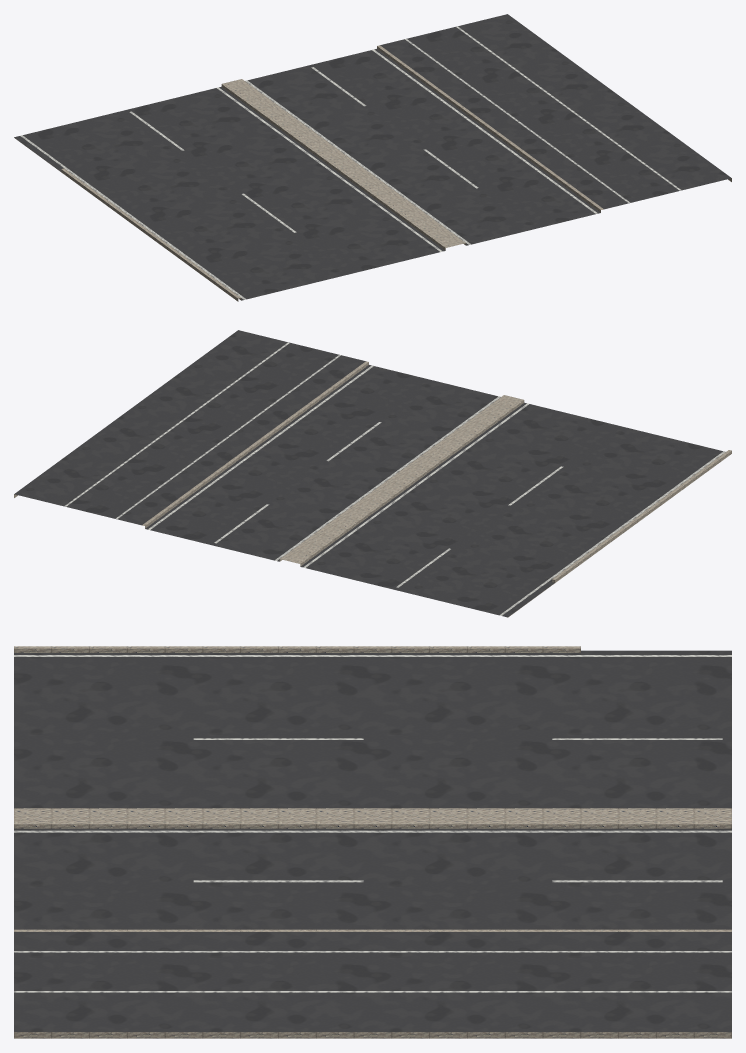
Rendered from SM_Viale_Italia_Strada_v2_Varco_LOD1.fbx.
3 renders of one model, top to bottom at view 1: azimuth 30°, elevation 25°; view 2: azimuth 150°, elevation 25°; view 3: azimuth 270°, elevation 25°, orthographic. The views are drawn at different scales.
Visible parts, largest first — view 1: SM_Viale_Italia_Strada_v2_Varco_LOD1; view 2: SM_Viale_Italia_Strada_v2_Varco_LOD1; view 3: SM_Viale_Italia_Strada_v2_Varco_LOD1.
Part boxes in pixels (x1=…): SM_Viale_Italia_Strada_v2_Varco_LOD1: x1=14, y1=14, x2=731, y2=301; SM_Viale_Italia_Strada_v2_Varco_LOD1: x1=14, y1=330, x2=731, y2=617; SM_Viale_Italia_Strada_v2_Varco_LOD1: x1=14, y1=646, x2=731, y2=1038.
Size of the model in its own units: 2415 by 1900 by 20.5.
Materials: 3 (3 with a texture image).
